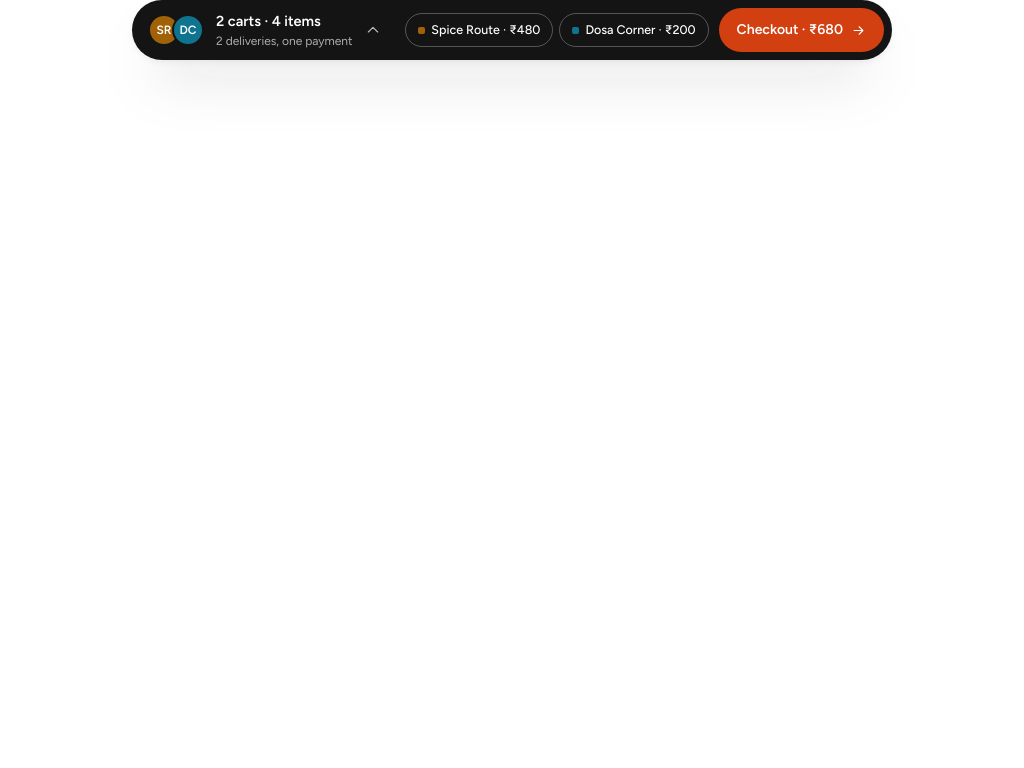
Test: Cart dock (10-33…10-41) › guests are asked to sign in before checkout
Step 1. Click the button "Checkout · ₹680" → (801,30), box left=719, top=8, right=884, bottom=52
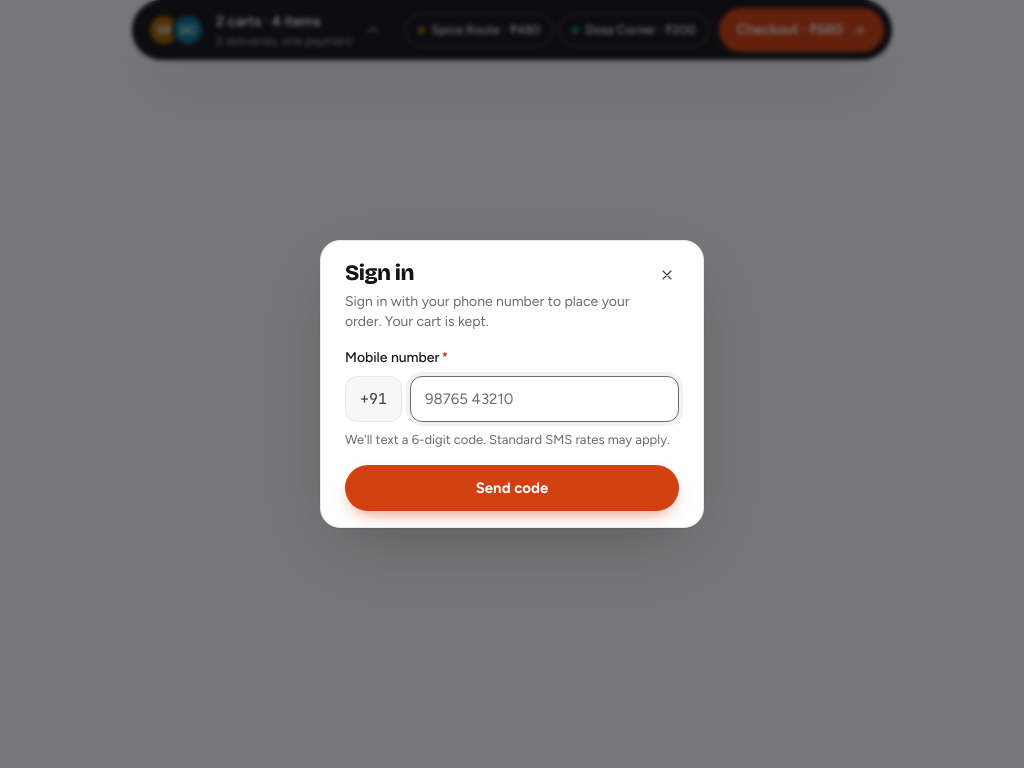
Check: the dialog "Sign in" is shown, box left=320, top=240, right=704, bottom=528
